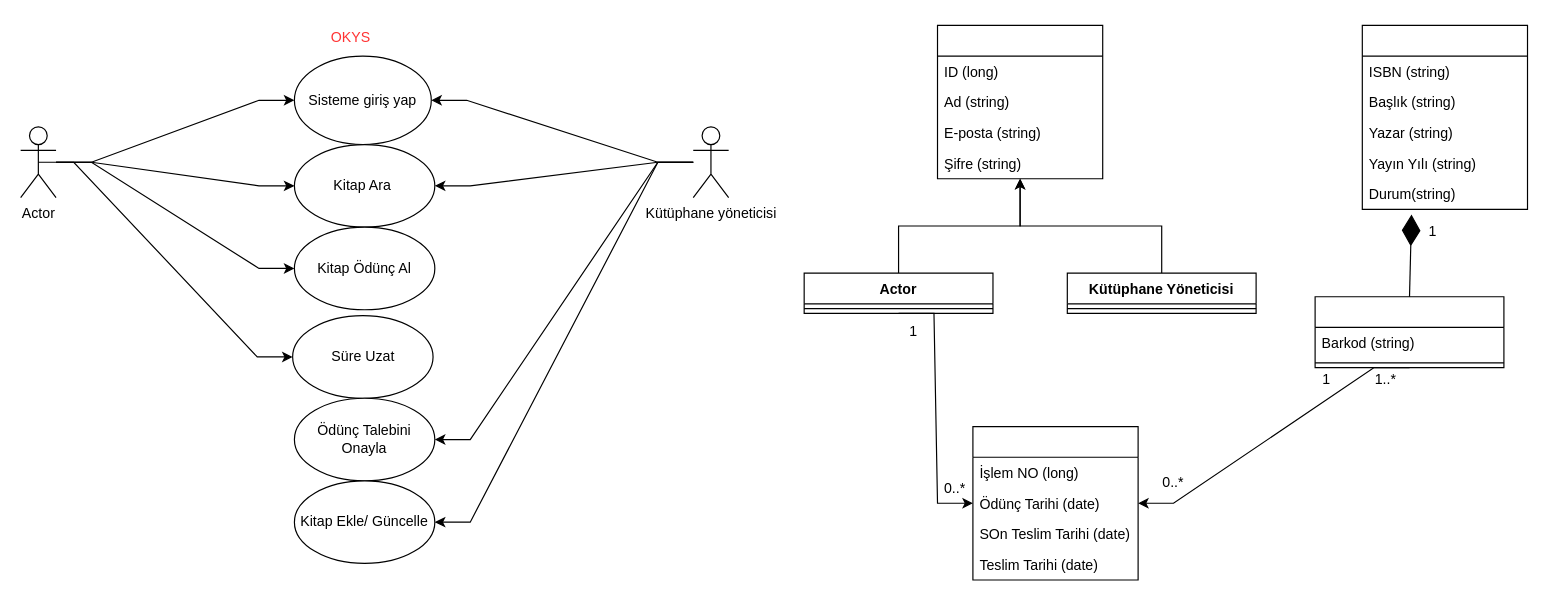
Some shapes in this 1548 by 603 pixel diagram are drawn without their labels. The shapes that lost their labels are listed below. From the top down, each one's box as (x1, y1, x2, y2) in pixels, then its label:
(936, 24, 1103, 179): Kullanıcı
(1361, 24, 1528, 209): Kitap
(1314, 296, 1504, 368): Kitap Kopyası
(972, 425, 1138, 580): Ödünç Alma
